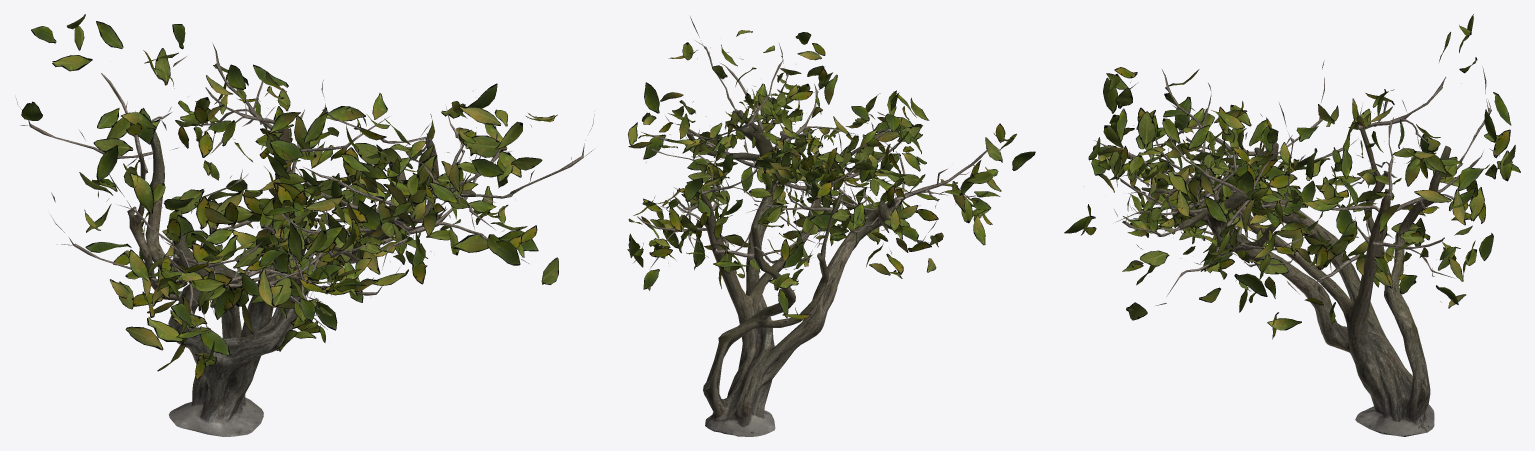
3 views of the same model, side by side, from view 1: azimuth 30°, elevation 25°; view 2: azimuth 150°, elevation 25°; view 3: azimuth 270°, elevation 25° (orthographic). The views are drawn at different scales.
Parts seen in each view (by area): view 1: island_tree_02_LOD0; view 2: island_tree_02_LOD0; view 3: island_tree_02_LOD0.
Part boxes in pixels (left/top/right/bottom): island_tree_02_LOD0: left=15, top=14, right=594, bottom=436; island_tree_02_LOD0: left=627, top=16, right=1035, bottom=436; island_tree_02_LOD0: left=1064, top=14, right=1520, bottom=436.
Bounding box in the file's own units: 3.88 × 3.41 × 4.01.
Materials: 3 (3 with a texture image).
